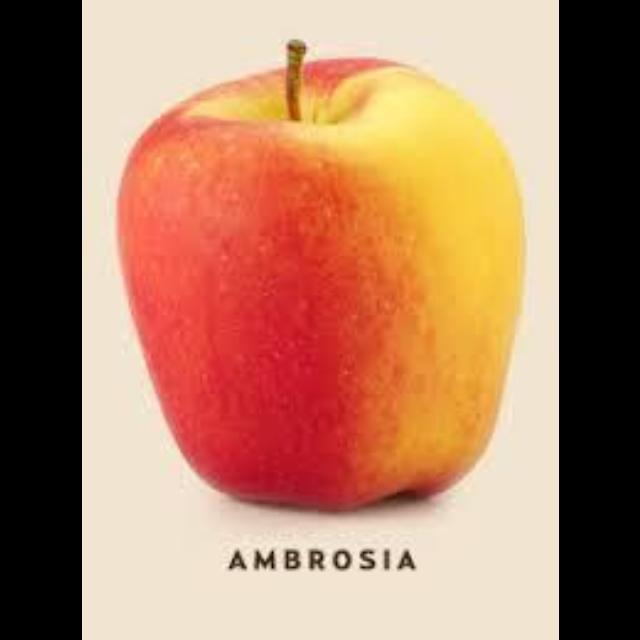apple: (115, 42, 522, 507)
